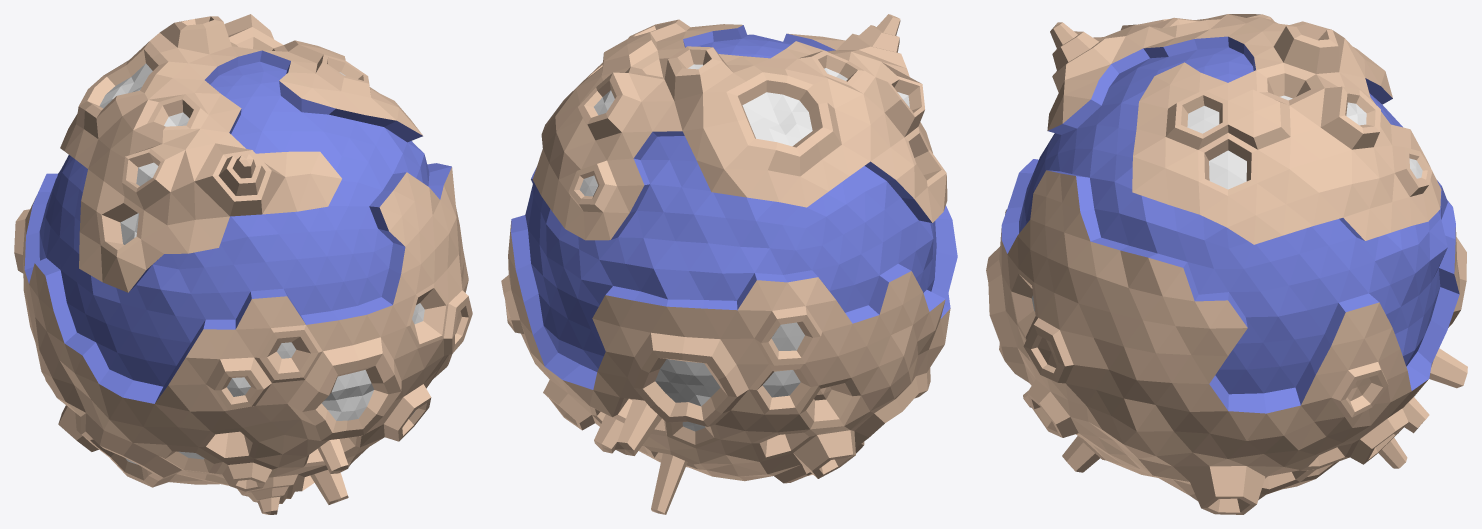
The model's file is Dessert.glb.
The picture shows the model from 3 angles, left to right: view 1: azimuth 30°, elevation 25°; view 2: azimuth 150°, elevation 25°; view 3: azimuth 270°, elevation 25°; orthographic projection. The views are drawn at different scales.
Parts seen in each view (by area): view 1: Icosphere; view 2: Icosphere; view 3: Icosphere.
Boxes of the visible parts, bbox=[...] form: Icosphere: bbox=[14, 14, 472, 514]; Icosphere: bbox=[501, 14, 957, 514]; Icosphere: bbox=[986, 14, 1467, 514].
Size of the model in its own units: 10.02 by 11.04 by 10.52.
